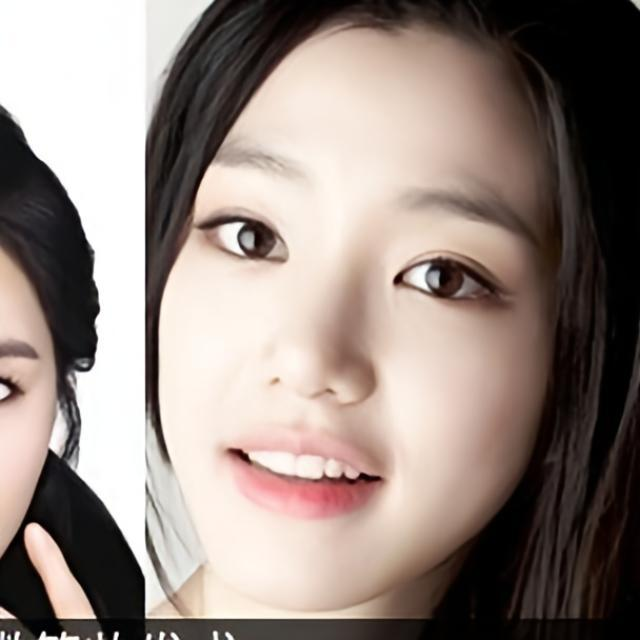surprise: (155, 10, 566, 611)
